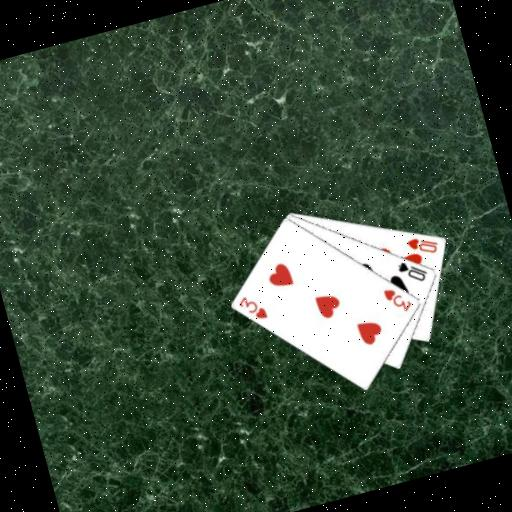10H: (402, 229, 441, 260)
10S: (393, 252, 431, 288)
3H: (234, 289, 270, 326), (380, 281, 415, 318)
